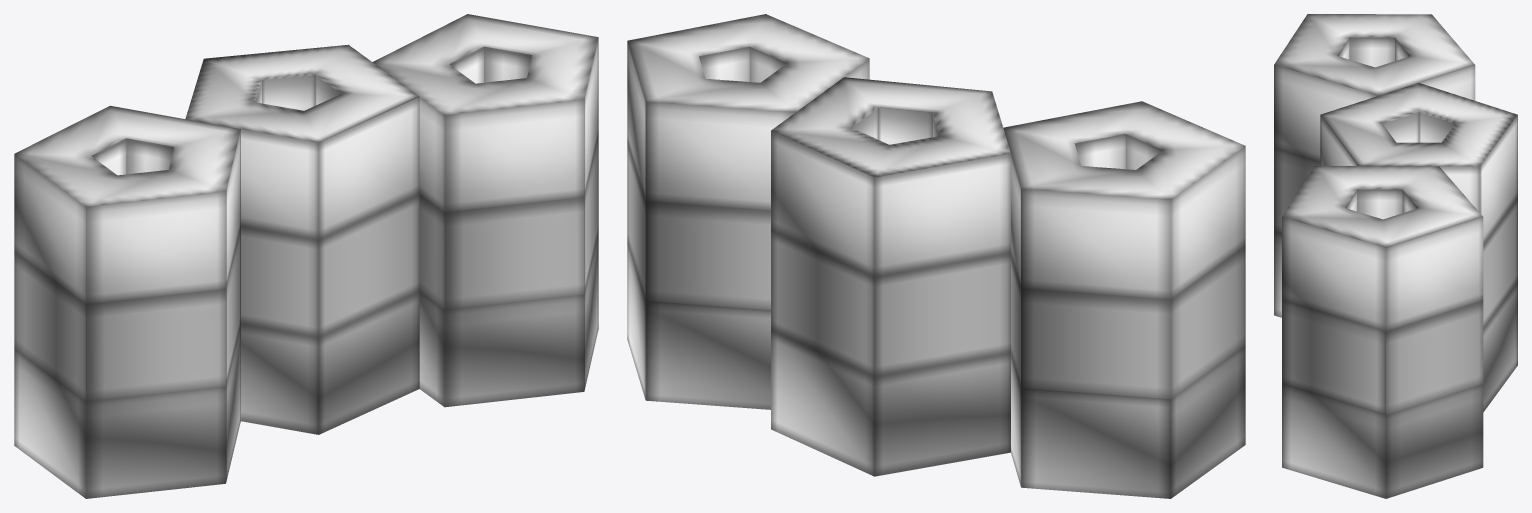
The model's file is Tires-01.fbx.
3 renders of one model, left to right at view 1: azimuth 30°, elevation 25°; view 2: azimuth 150°, elevation 25°; view 3: azimuth 270°, elevation 25°, orthographic. The views are drawn at different scales.
Visible parts, largest first — view 1: Tires-01; view 2: Tires-01; view 3: Tires-01.
Part boxes in pixels (left/top/right/bottom): Tires-01: left=14, top=14, right=598, bottom=498; Tires-01: left=627, top=14, right=1245, bottom=498; Tires-01: left=1274, top=14, right=1517, bottom=498.
Bounding box in the file's own units: 0.5 × 0.25 × 0.22.
